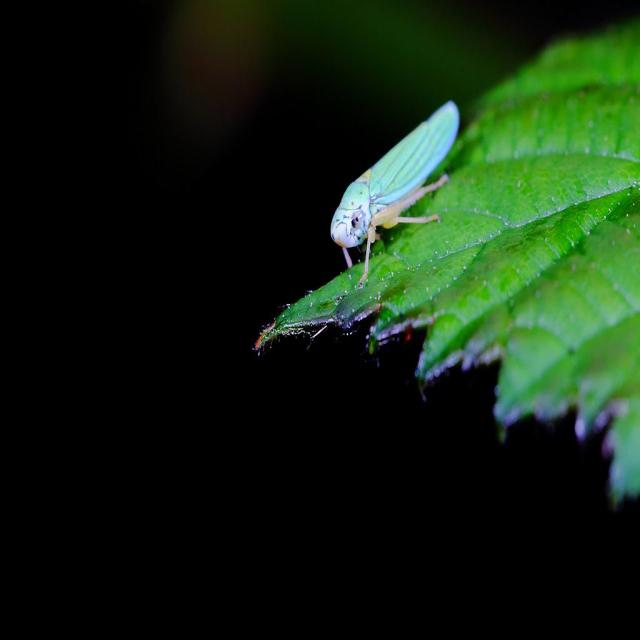Yechan: (325, 97, 465, 295)
